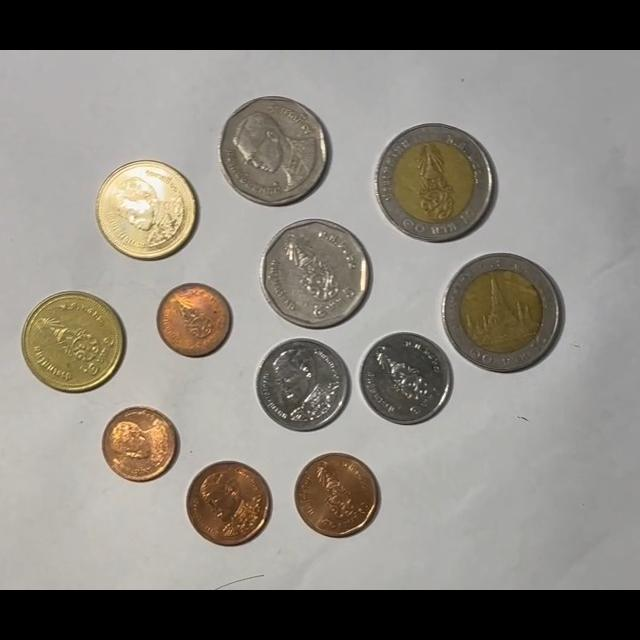1-baht: (254, 338, 349, 432), (358, 332, 453, 426)
10-baht: (443, 252, 564, 372), (374, 123, 495, 242)
2-baht: (20, 291, 124, 394), (96, 160, 197, 261)
25-satang: (102, 406, 179, 482), (156, 283, 231, 357)
5-baht: (260, 218, 371, 330), (218, 96, 329, 207)
50-satang: (185, 461, 272, 547), (294, 453, 380, 538)
